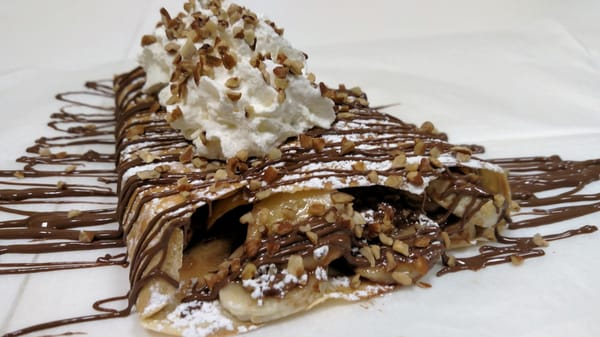sushi: (99, 2, 598, 324)
